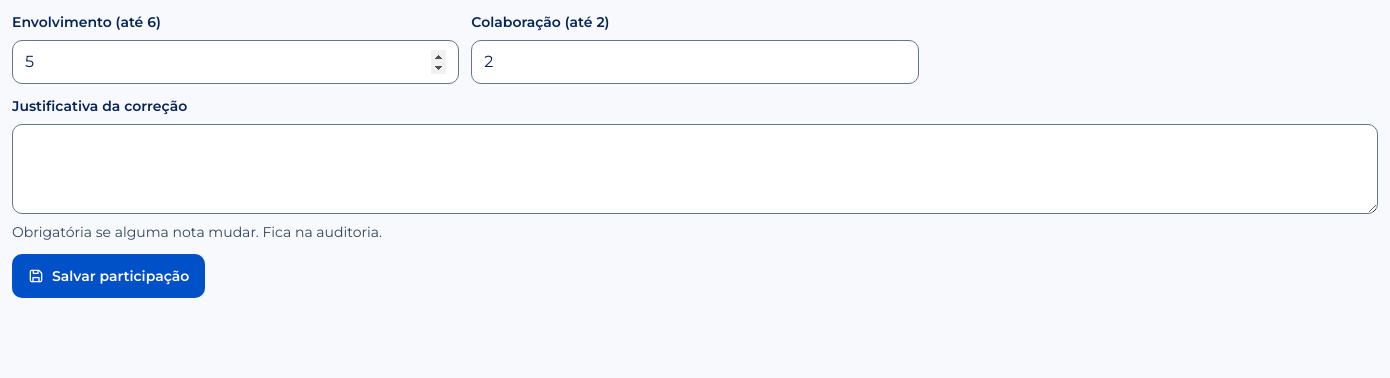
Test case: FormParticipacao (US2, FR-010, FR-025) › valida o limite e exige justificativa ao corrigir
This screenshot has width=1390, height=378.
Replace the text in the number field labelled "Colaboração (até 2)" with "3" at coordinates (695, 62), box top-left (471, 40), bottom-right (919, 84)
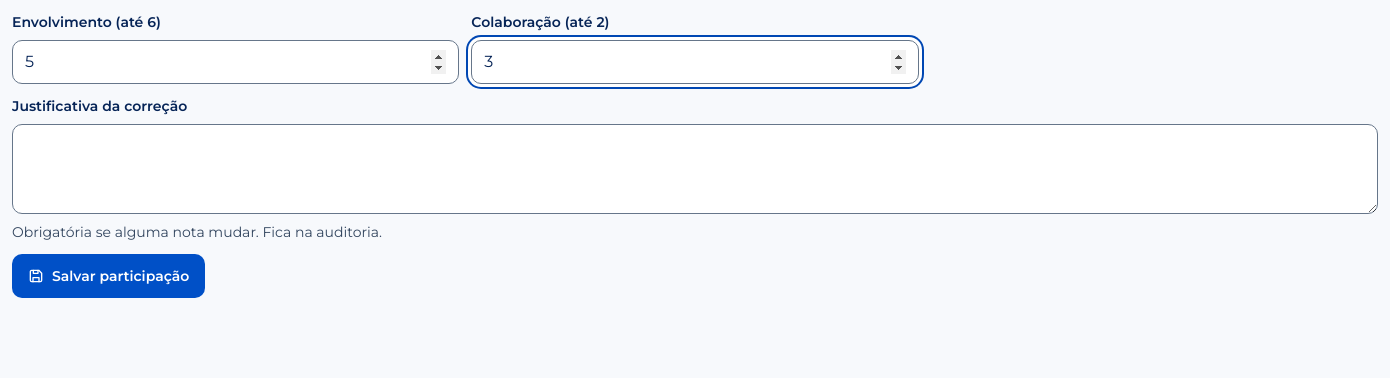
Click the button "Salvar participação" at coordinates (109, 276), box top-left (12, 254), bottom-right (205, 298)
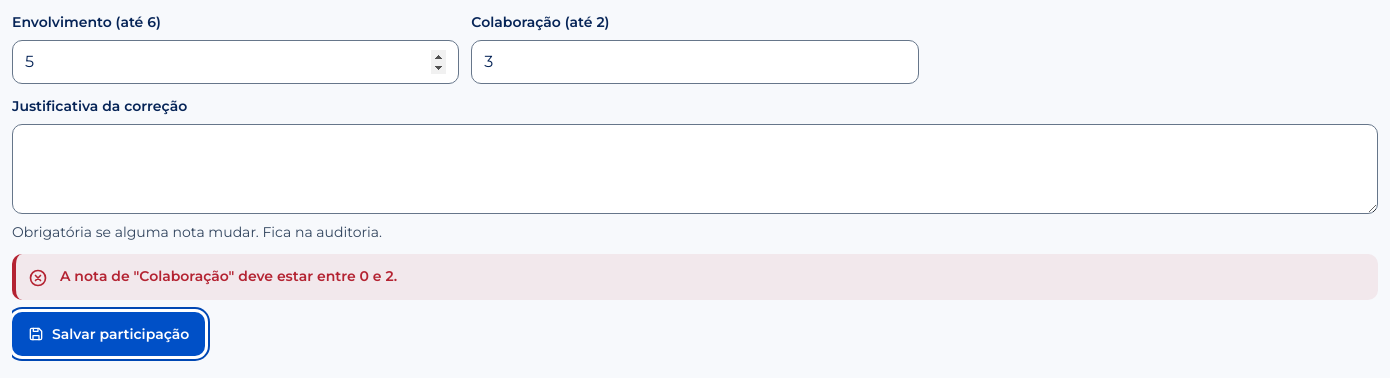
expect the text "A nota de \"Colaboração\" deve estar entre 0 e 2." is shown: met, box top-left (60, 266), bottom-right (397, 286)
Replace the text in the number field labelled "Colaboração (até 2)" with "1" at coordinates (695, 62), box top-left (471, 40), bottom-right (919, 84)
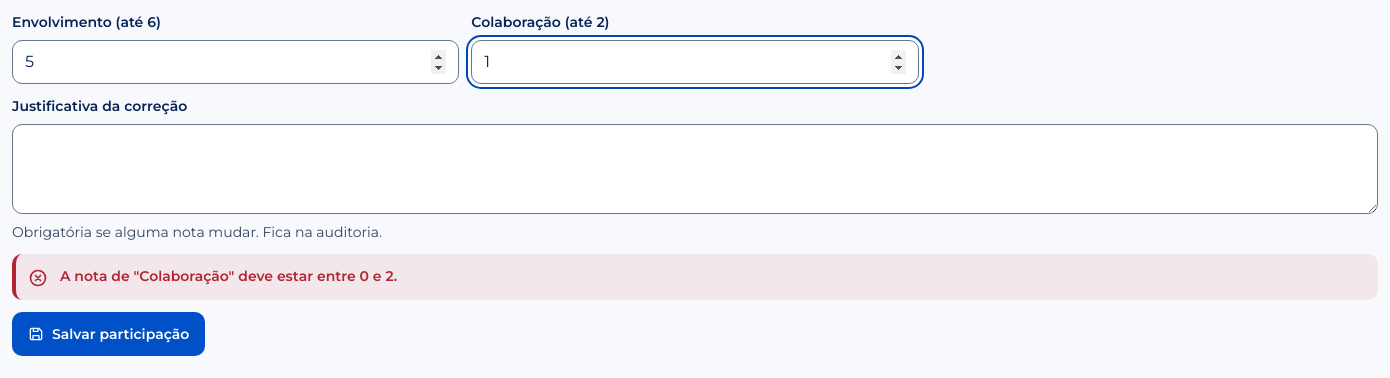
Click the button "Salvar participação" at coordinates (109, 334), box top-left (12, 312), bottom-right (205, 356)
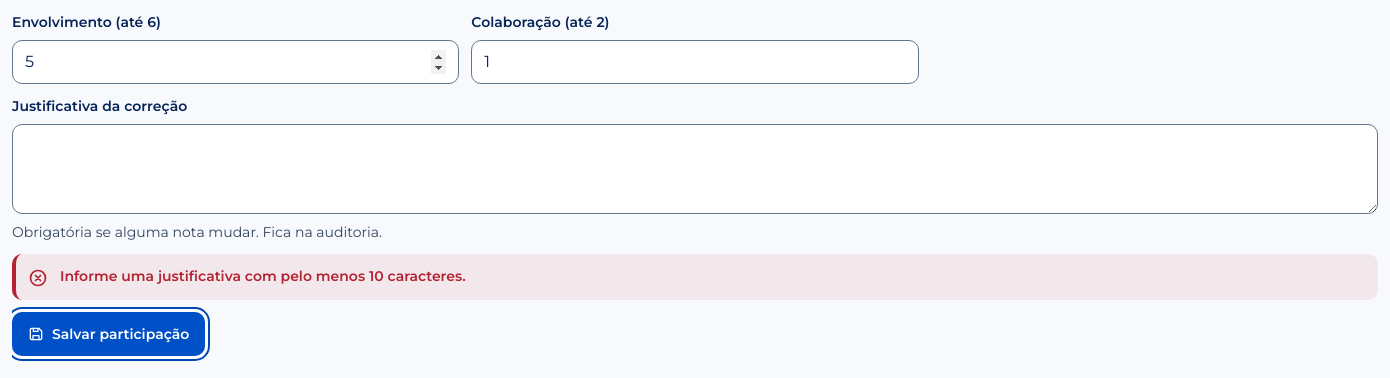
expect the text "Informe uma justificativa com pelo menos 10 caracteres." is shown: met, box top-left (60, 266), bottom-right (466, 286)
